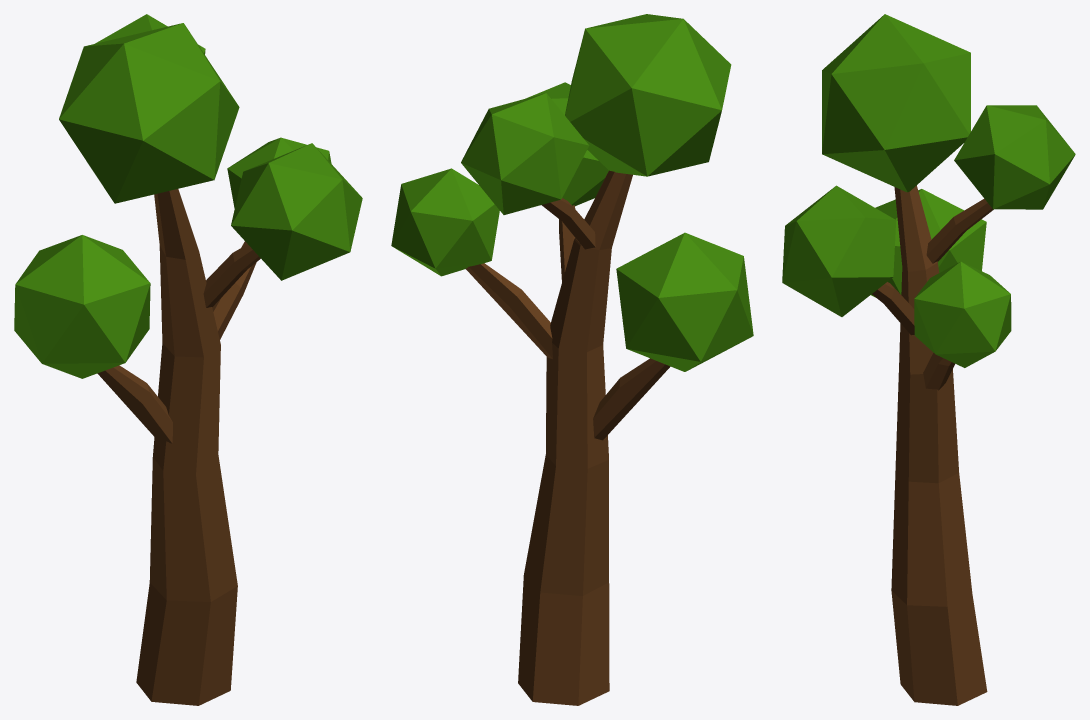
Rendered from tree.glb.
The picture shows the model from 3 angles, left to right: view 1: azimuth 30°, elevation 25°; view 2: azimuth 150°, elevation 25°; view 3: azimuth 270°, elevation 25°; orthographic projection. The views are drawn at different scales.
Visible parts, largest first — view 1: branch.001; view 2: branch.001; view 3: branch.001.
Boxes of the visible parts, x1,y1,x2,y2 form: branch.001: (14, 14, 362, 705); branch.001: (391, 14, 753, 705); branch.001: (782, 14, 1075, 705).
Size of the model in its own units: 4.39 by 8.75 by 3.68.
